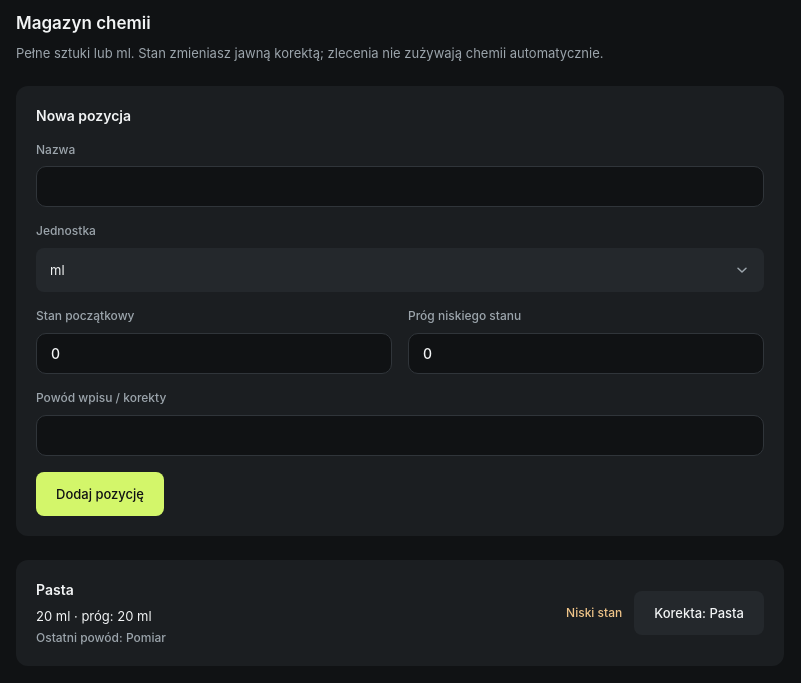
submits explicit measured quantities with the displayed version and handles a concurrent edit
Expected: the text "Niski stan" is shown, [566,605,622,622]
Click the button "Korekta: Pasta".
click(699, 613)  # box [634,591,764,635]
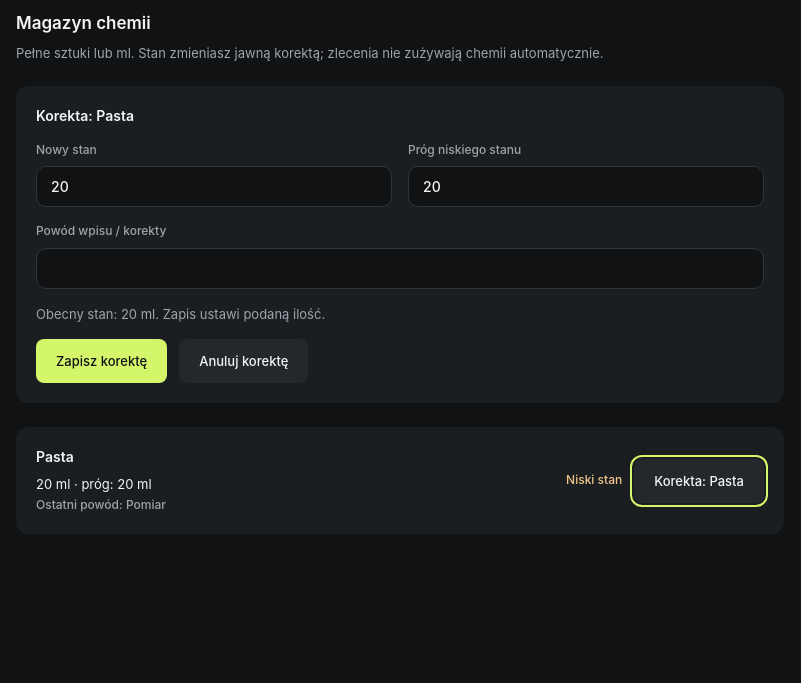
Replace the text in the field labelled "Nowy stan" with "21" at (214, 187), box [36,166,392,207]
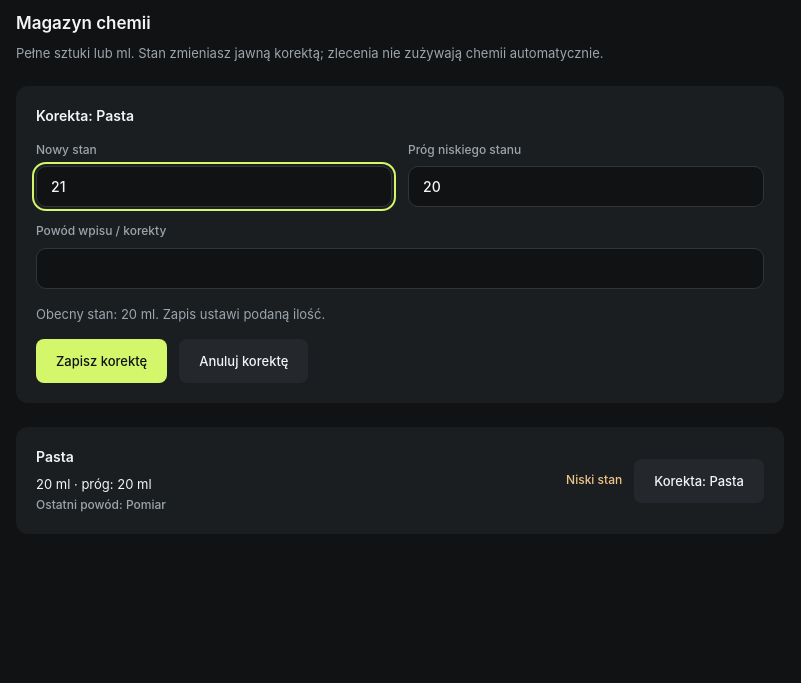
Type "Dostawa" into the field labelled "Powód wpisu / korekty".
click(400, 269); type("Dostawa")  # box [36,248,764,289]
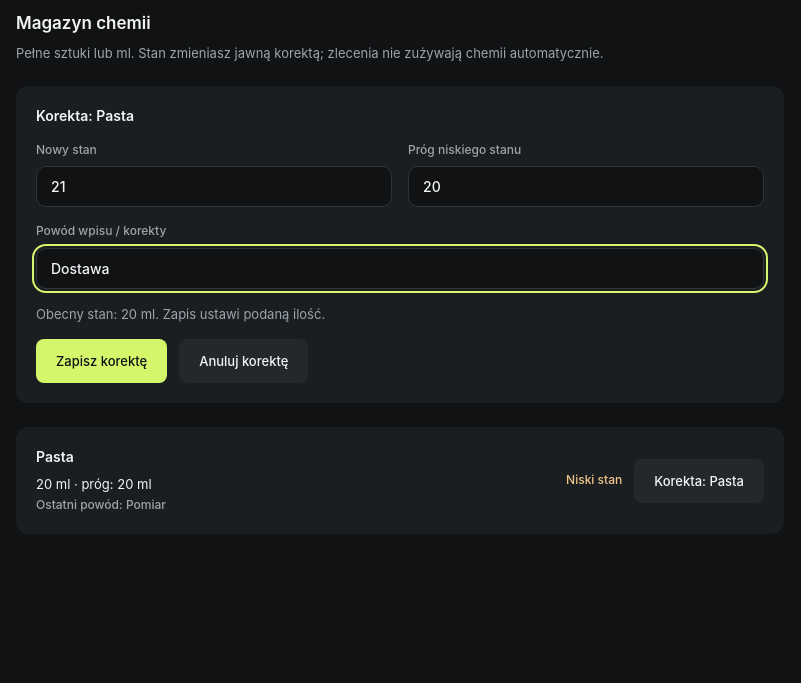
Click the button "Zapisz korektę".
click(102, 361)  # box [36,339,167,383]
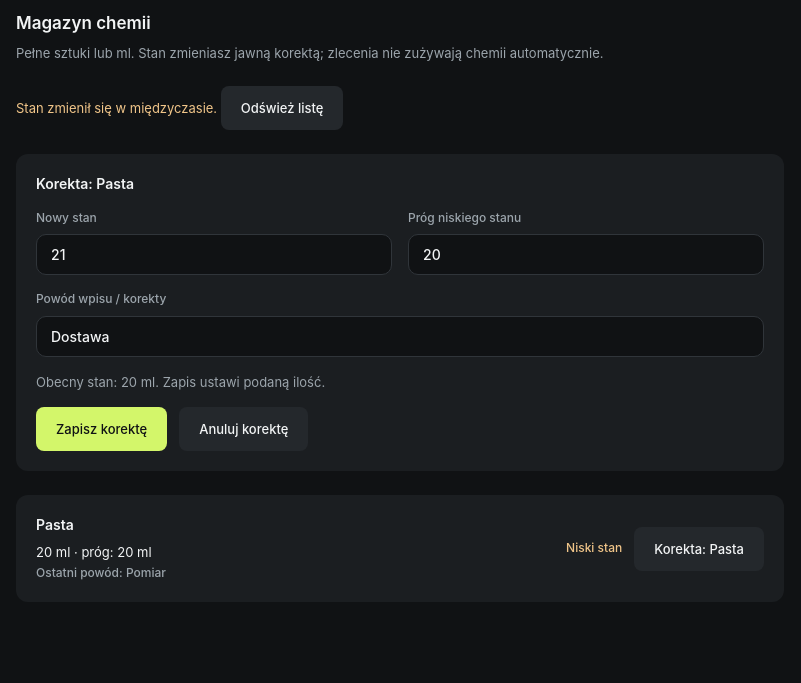
Result: the message shows "Stan zmienił się" at [16,100,217,116]
Click the button "Odśwież listę".
click(282, 108)  # box [221,86,344,130]
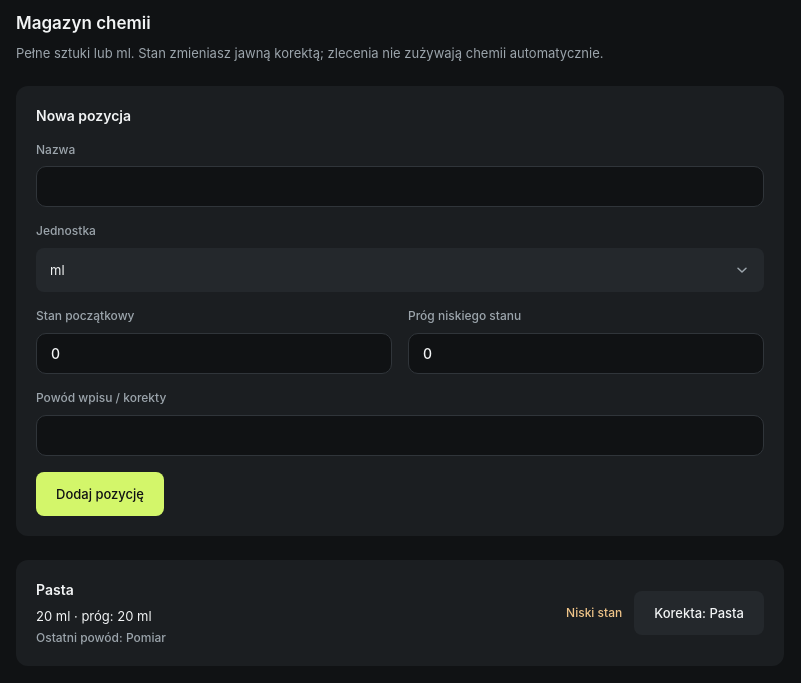
Result: the button "Zapisz korektę" is gone
